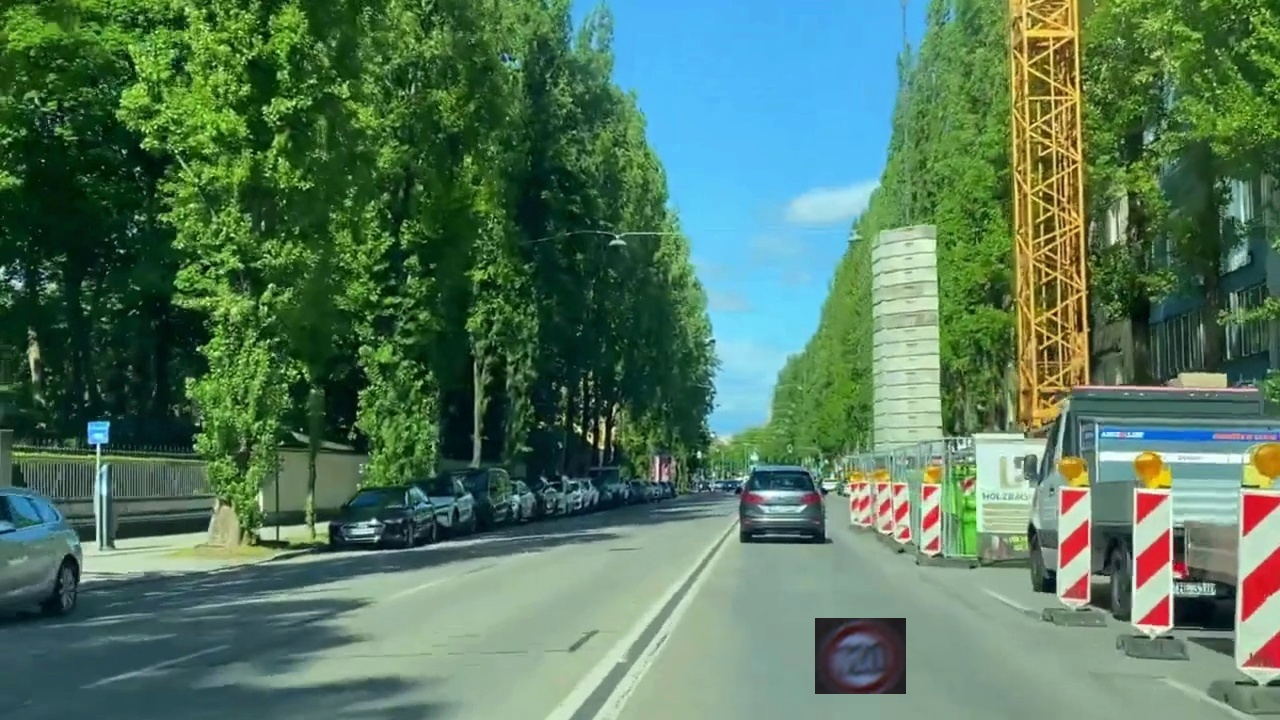Speed 120: (815, 618, 906, 694)
